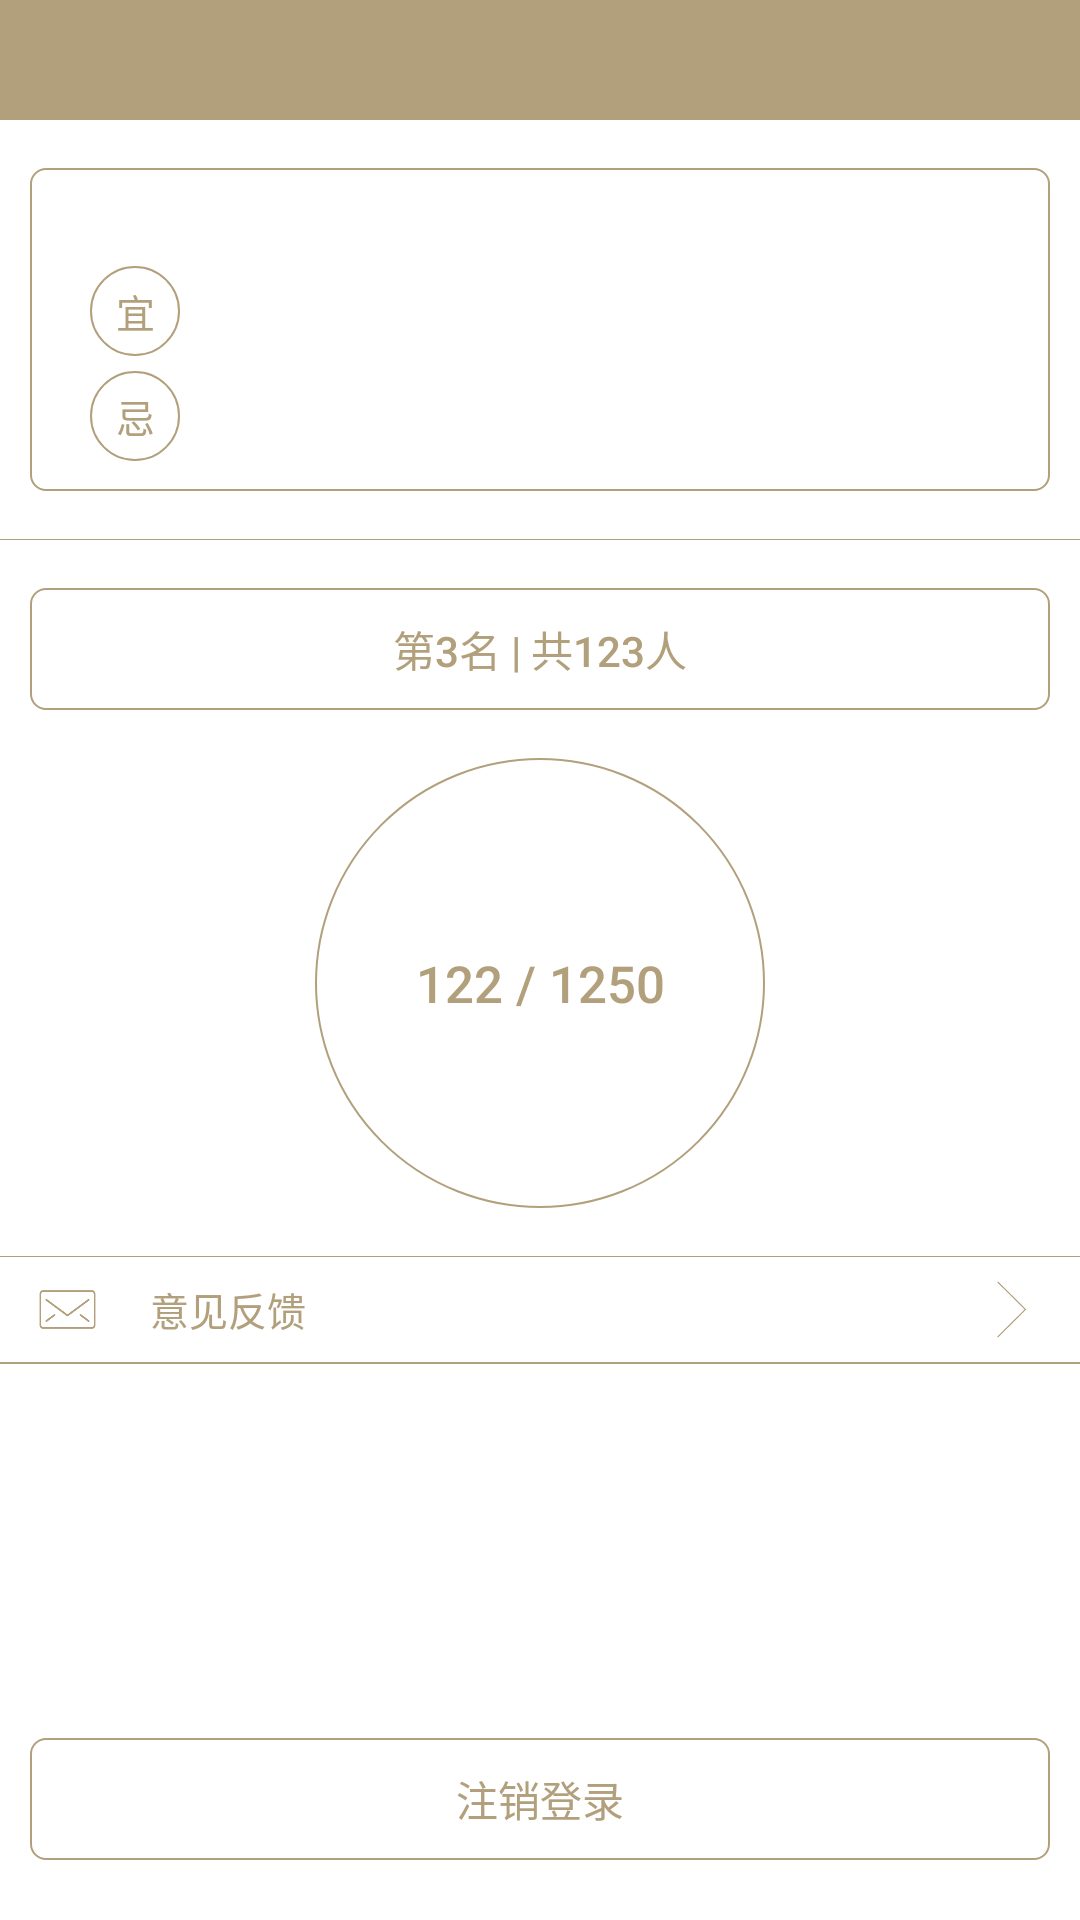

Point at icon controls on the screen. Image size 1080 x 1920, points as (x=x, y=y).
feedback: (x=67, y=1309)
